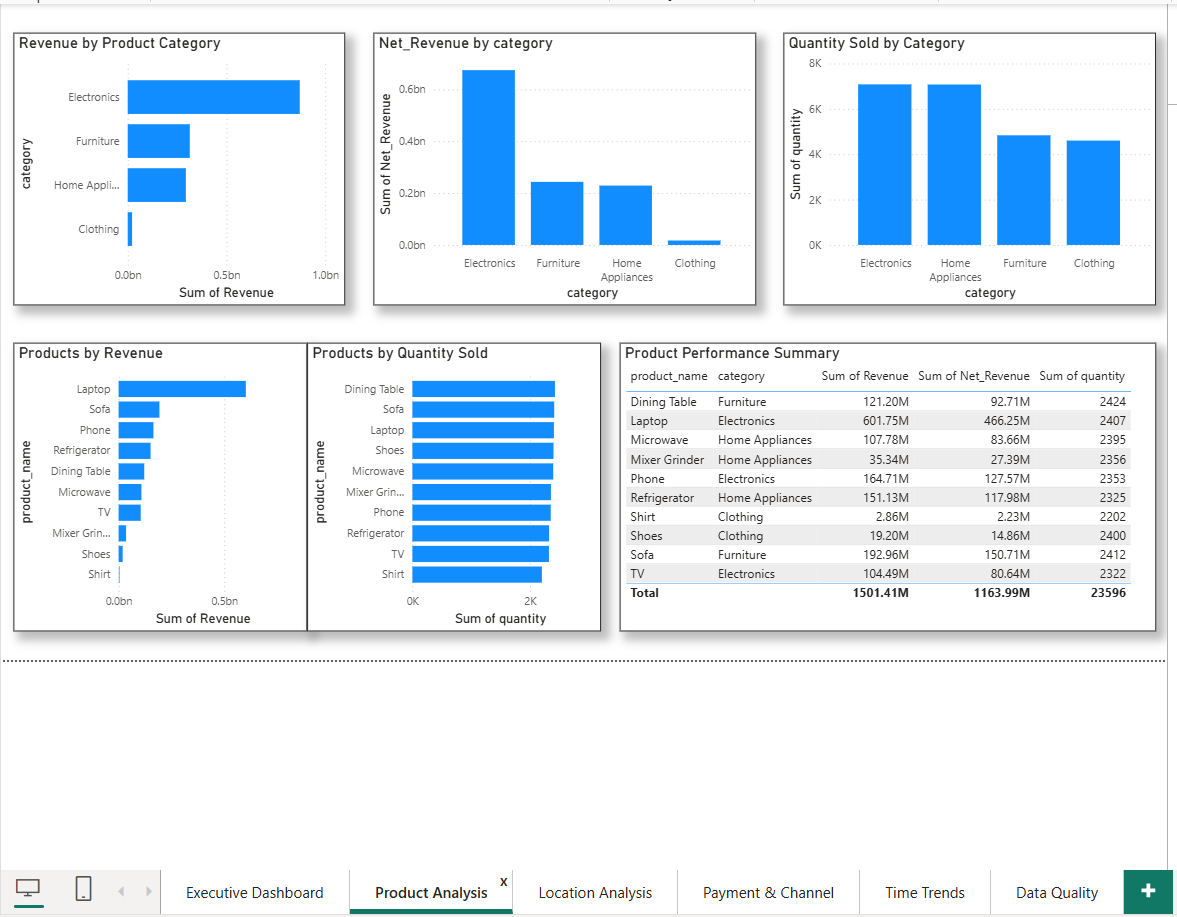

The page's visual inventory and layout, read from the dashboard file:
{"tool":"powerbi","page":{"name":"Product Analysis","canvas":[1280,720],"ordinal":1},"visuals":[{"type":"clusteredBarChart","title":"Revenue by Product Category","fields":{"Category":["retail_master_curated.category"],"Y":["Sum(retail_master_curated.Revenue)"]},"box":[13.7,31.6,363.6,299.1],"z":0},{"type":"clusteredColumnChart","title":"Net_Revenue by category","fields":{"Category":["retail_master_curated.category"],"Y":["Sum(retail_master_curated.Net_Revenue)"]},"box":[408.9,31.6,419.9,299.1],"z":1000},{"type":"clusteredColumnChart","title":"Quantity Sold by Category","fields":{"Category":["retail_master_curated.category"],"Y":["Sum(retail_master_curated.quantity)"]},"box":[859,31.6,408.9,299.1],"z":2000},{"type":"clusteredBarChart","title":"Products by Revenue","fields":{"Category":["retail_master_curated.product_name"],"Y":["Sum(retail_master_curated.Revenue)"]},"box":[13.7,371.9,322.5,317],"z":3000},{"type":"clusteredBarChart","title":"Products by Quantity Sold","fields":{"Category":["retail_master_curated.product_name"],"Y":["Sum(retail_master_curated.quantity)"]},"box":[336.2,371.9,322.5,317],"z":4000},{"type":"tableEx","title":"Product Performance Summary","fields":{"Values":["retail_master_curated.product_name","retail_master_curated.category","Sum(retail_master_curated.Revenue)","Sum(retail_master_curated.Net_Revenue)","Sum(retail_master_curated.quantity)"]},"box":[679.2,371.9,588.7,317],"z":5000}]}

Visuals, with their boxes in screenshot pixels (x1, y1, x2, y2):
"Revenue by Product Category" clusteredBarChart: <bbox>12, 32, 342, 303</bbox>
"Net_Revenue by category" clusteredColumnChart: <bbox>371, 32, 752, 303</bbox>
"Quantity Sold by Category" clusteredColumnChart: <bbox>779, 32, 1150, 303</bbox>
"Products by Revenue" clusteredBarChart: <bbox>12, 340, 305, 628</bbox>
"Products by Quantity Sold" clusteredBarChart: <bbox>305, 340, 597, 628</bbox>
"Product Performance Summary" tableEx: <bbox>616, 340, 1150, 628</bbox>
